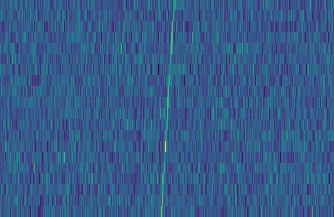signal: (157, 0, 178, 217)
